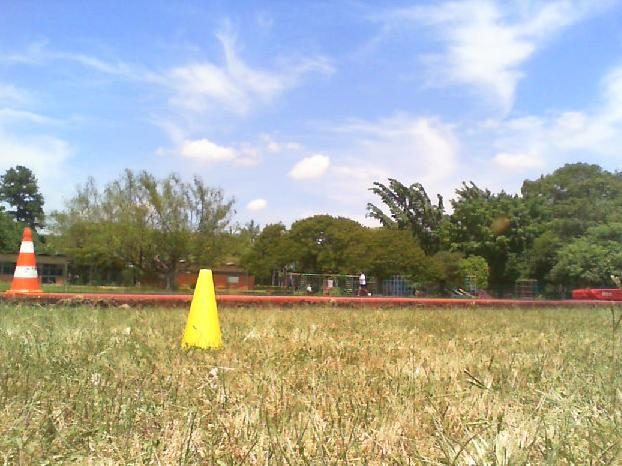0 cone: (182, 270, 222, 349), (6, 229, 43, 294)
